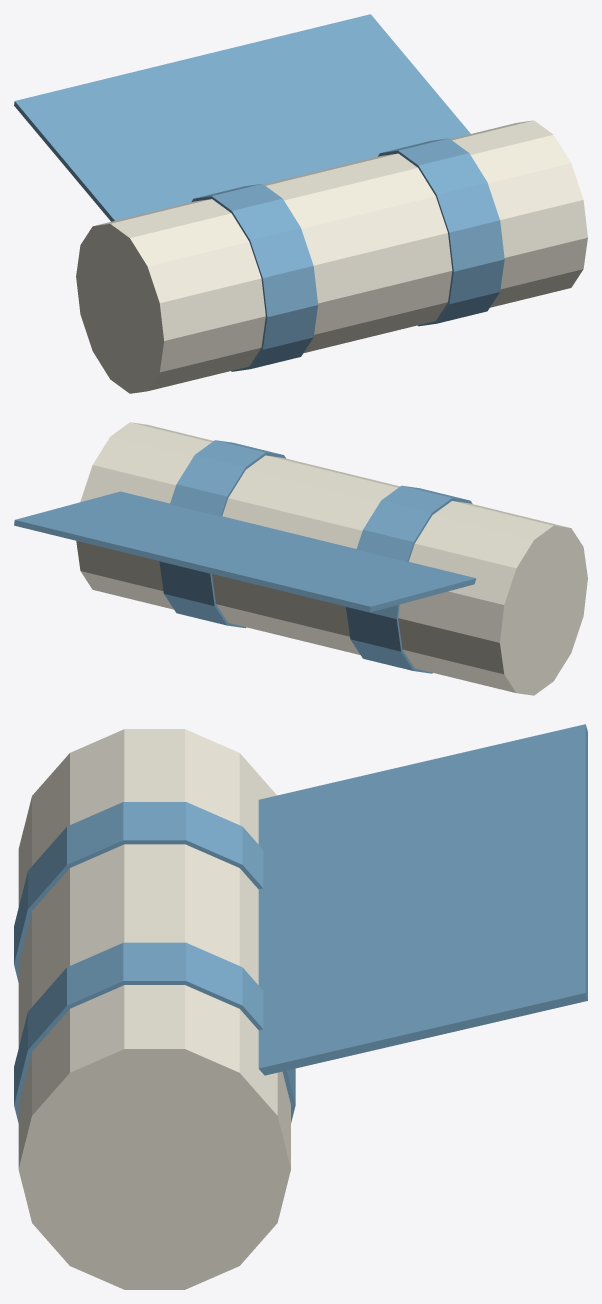
File: building_plan.glb
3 views of the same model, one above another, from view 1: azimuth 30°, elevation 25°; view 2: azimuth 150°, elevation 25°; view 3: azimuth 270°, elevation 25° (orthographic). The views are drawn at different scales.
Visible parts, largest first — view 1: building_plan; view 2: building_plan; view 3: building_plan.
Part boxes in pixels (x1,y1,x2,y2): building_plan: (14,14,587,393); building_plan: (14,422,587,695); building_plan: (14,724,587,1289).
Bounding box in the file's own units: 0.5 × 0.2007 × 0.3791.
